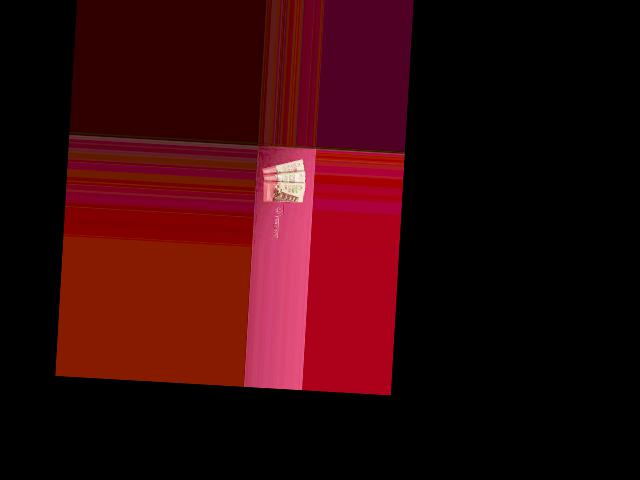chocolate: (259, 157, 307, 181)
